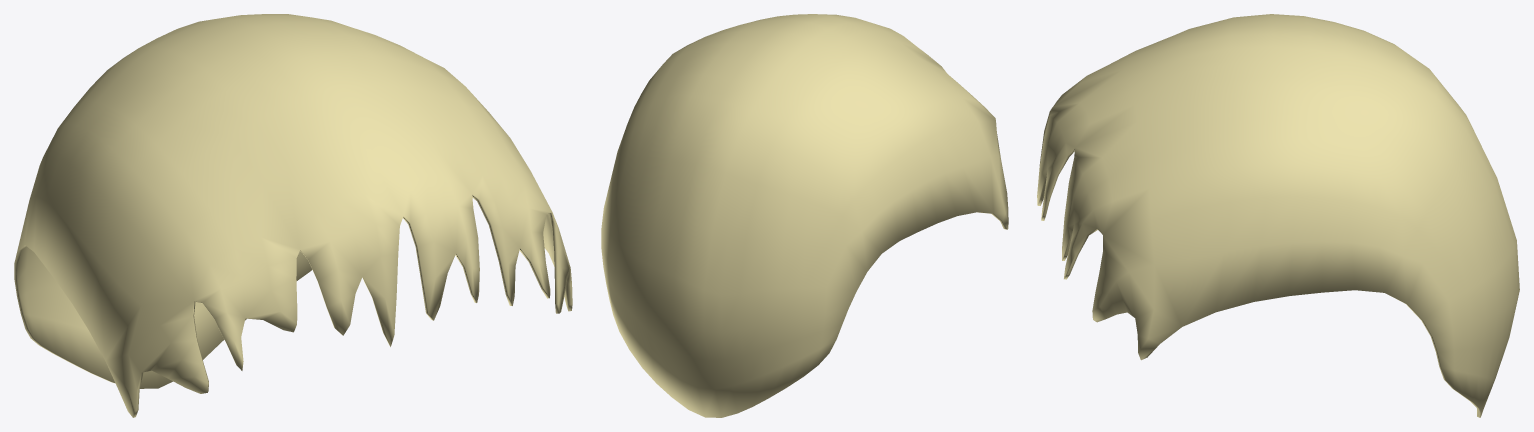
Rendered from hair-2.fbx.
3 views of the same model, side by side, from view 1: azimuth 30°, elevation 25°; view 2: azimuth 150°, elevation 25°; view 3: azimuth 270°, elevation 25° (orthographic). The views are drawn at different scales.
Parts seen in each view (by area): view 1: Body.001; view 2: Body.001; view 3: Body.001.
Boxes of the visible parts, x1,y1,x2,y2 form: Body.001: (14, 14, 572, 417); Body.001: (601, 14, 1008, 417); Body.001: (1037, 14, 1519, 417).
Size of the model in its own units: 52.91 by 49.48 by 57.23.
